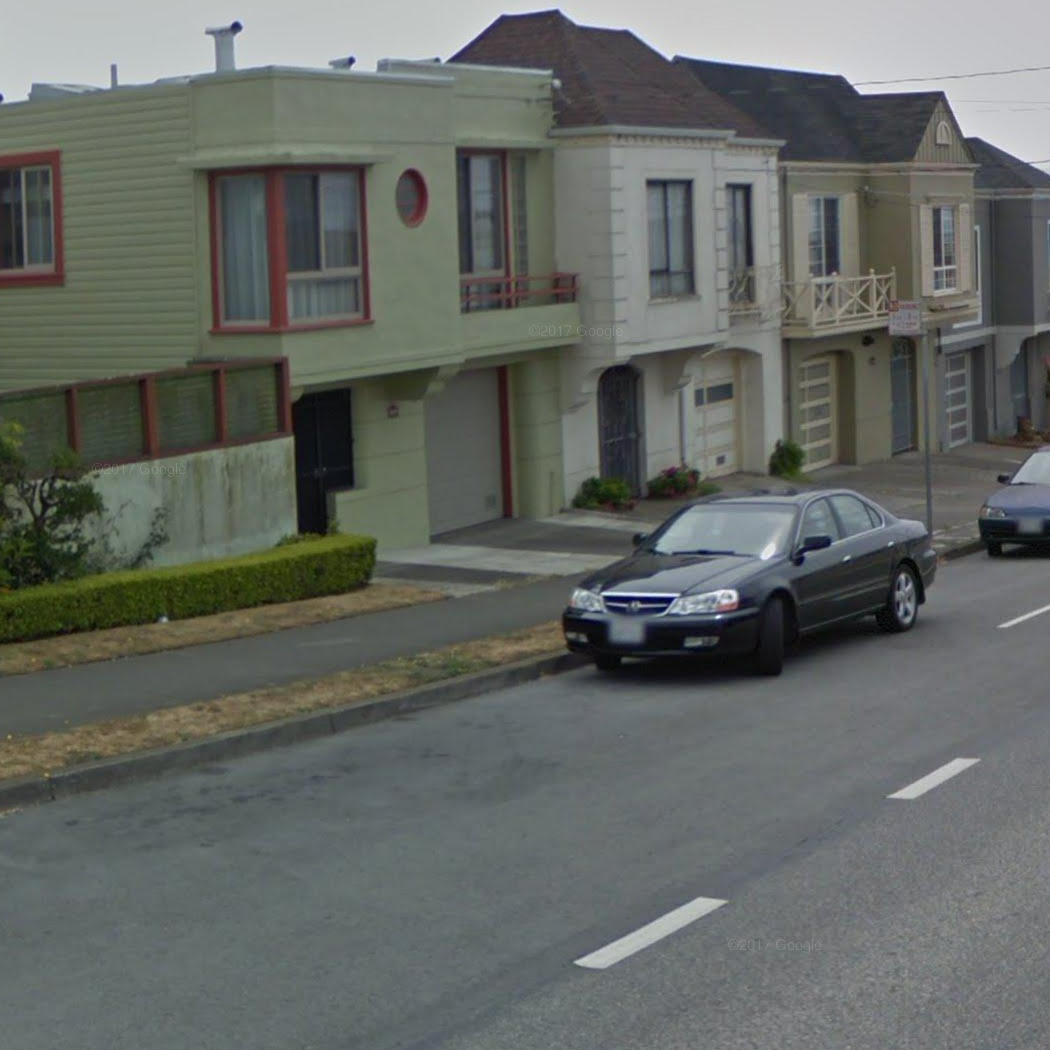No Parking: (887, 299, 923, 337)
